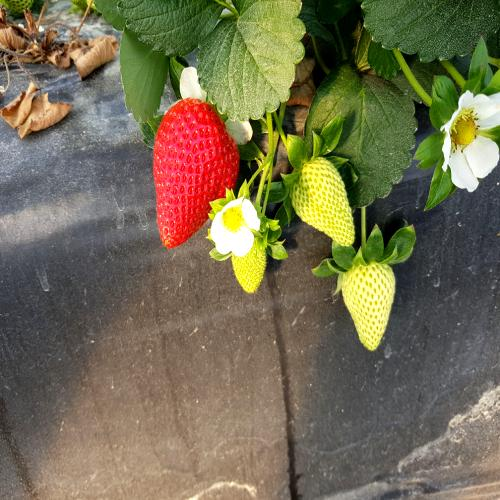ripe: (143, 90, 244, 256)
unripe: (289, 143, 359, 261), (336, 252, 403, 362)
